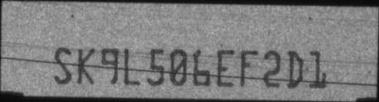0: (168, 46, 187, 85)
1: (309, 48, 327, 89)
2: (263, 50, 282, 87)
5: (147, 48, 165, 86)
6: (192, 48, 210, 86)
9: (101, 45, 119, 85)
D: (287, 48, 305, 89)
E: (215, 48, 233, 88)
F: (239, 49, 259, 87)
K: (77, 45, 96, 85)
L: (122, 45, 139, 85)
S: (53, 46, 73, 86)
